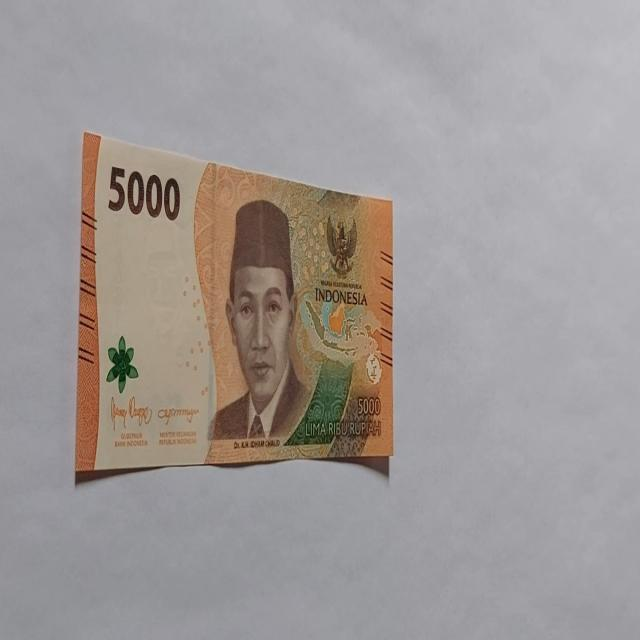lima ribu rupiah: (74, 130, 394, 480), (206, 198, 310, 446)
